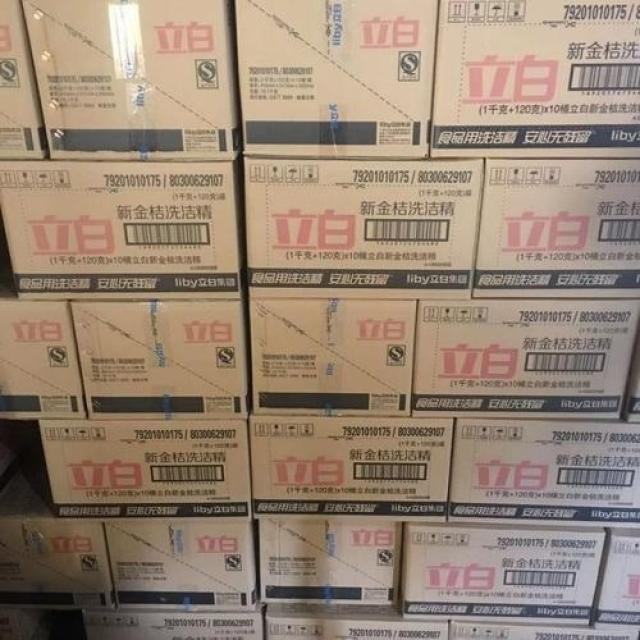box: (20, 0, 242, 161), (0, 155, 243, 301), (244, 156, 486, 298), (430, 0, 640, 157), (234, 0, 439, 159), (411, 298, 640, 419), (472, 157, 640, 298), (447, 413, 640, 529), (251, 413, 454, 522), (69, 298, 250, 420), (401, 522, 607, 626), (40, 420, 253, 518), (0, 435, 116, 612), (250, 297, 419, 416), (102, 518, 259, 609), (255, 518, 403, 605), (0, 280, 88, 420), (265, 591, 448, 640), (82, 602, 268, 640), (589, 527, 640, 632), (449, 621, 640, 640), (622, 320, 640, 422), (0, 612, 47, 640)
